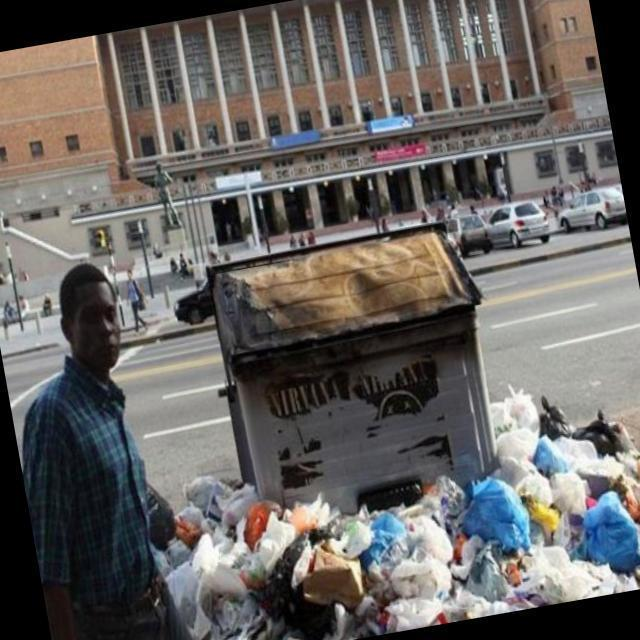garbage: (183, 404, 640, 640), (486, 370, 640, 533), (148, 449, 272, 640)
